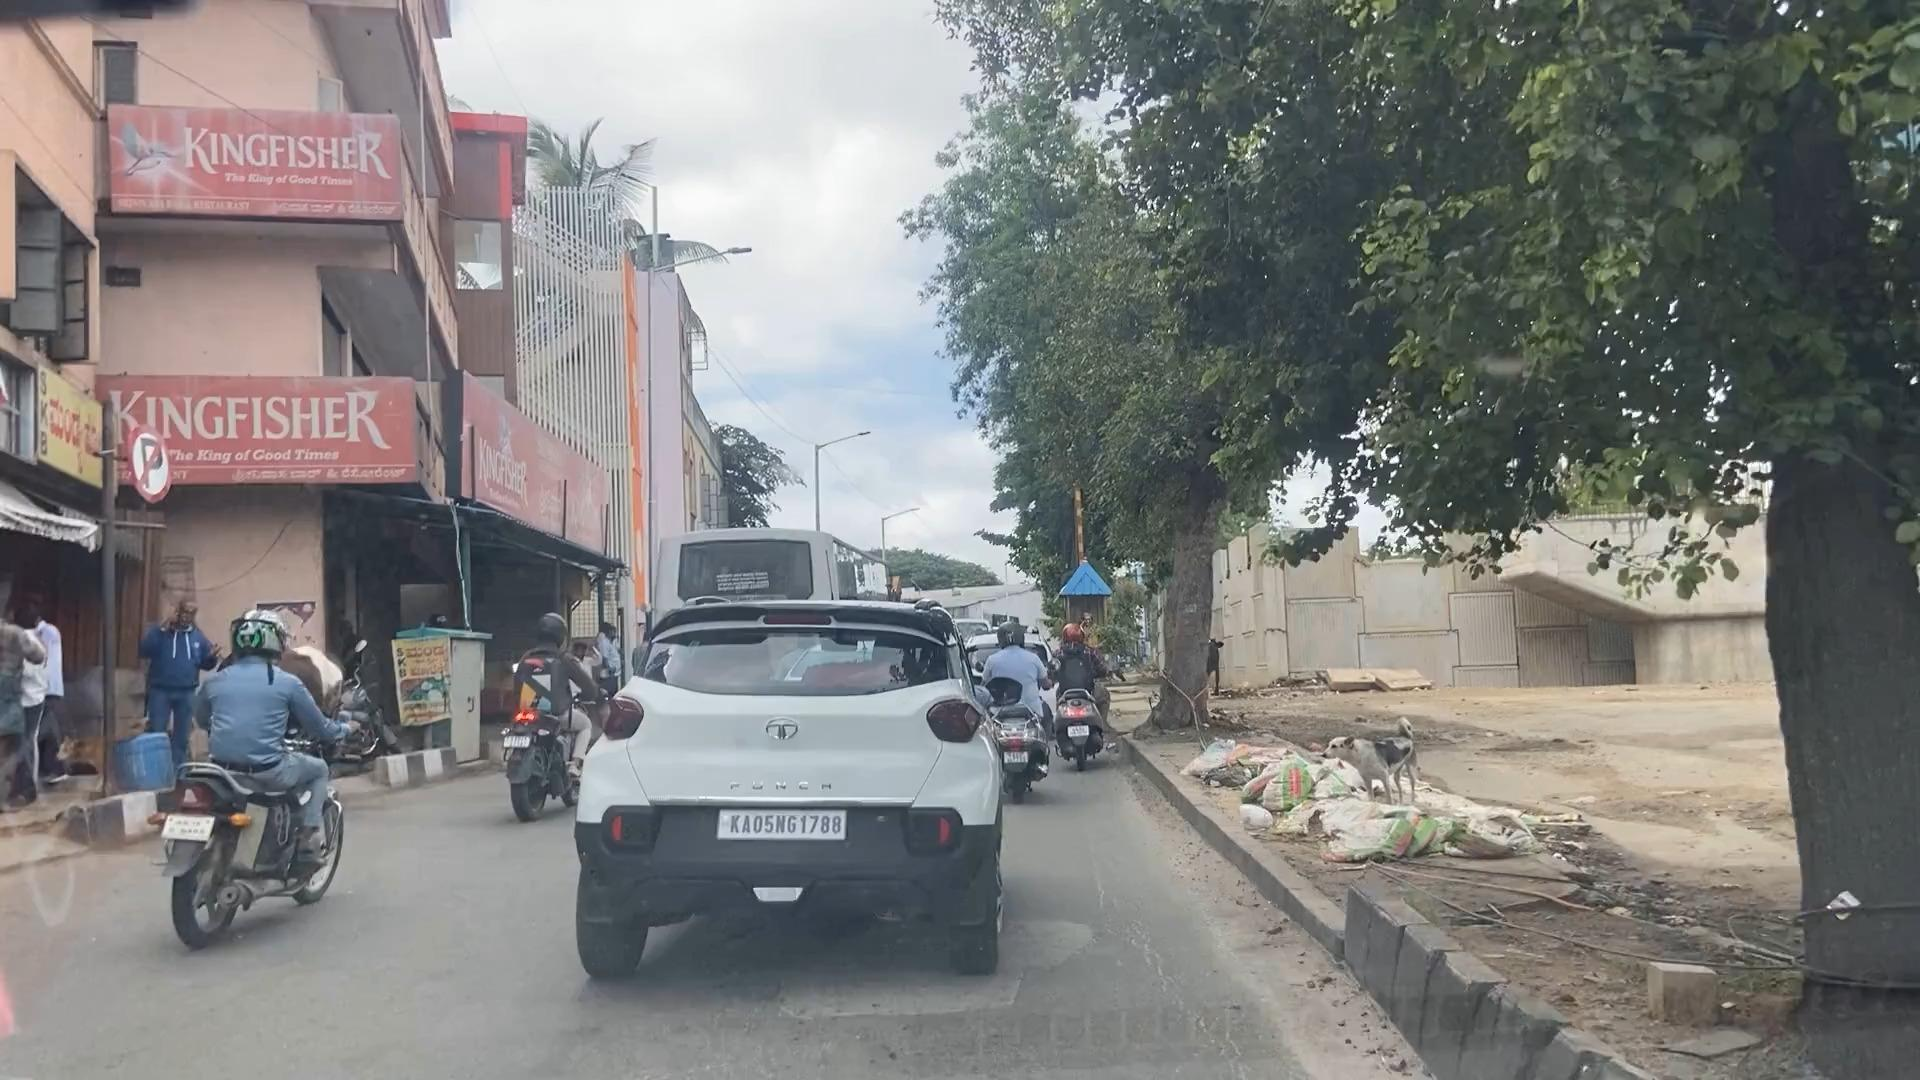LMV: (604, 618, 980, 984), (185, 608, 331, 963)
